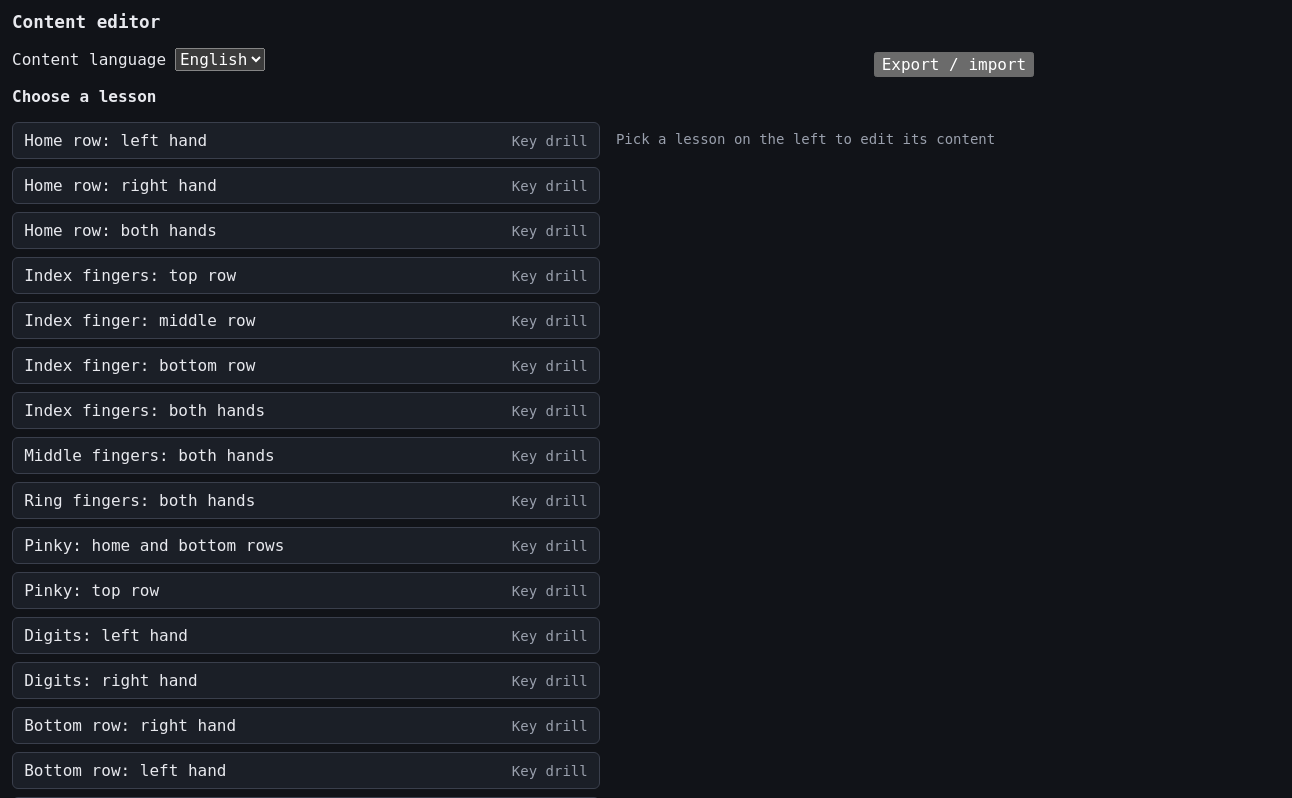
Scenario: ContentScreen › lists lessons for the selected language and opens an editor
The image size is (1292, 798).
Expected: the text with class "content-editor-hint" shows "Pick a lesson on the left", [616,131,995,147]
Expected: the element with class "content-editor-toolbar" is shown, [616,48,1291,89]
Step 1. Click the button with class "content-lesson-button" showing "Home row: left hand Key drill" → [116, 140], box [24,131,588,150]
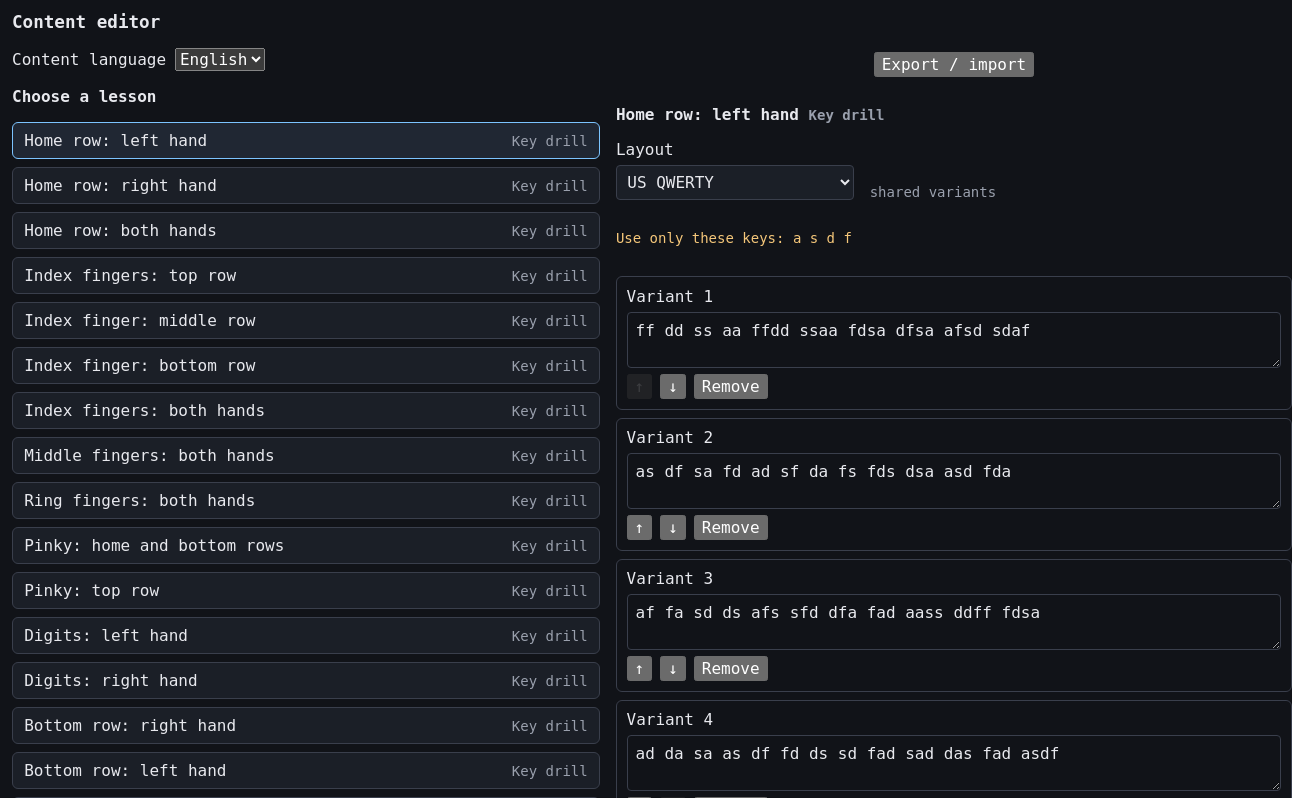
Now the list item with class "selected" is shown, box [12,122,600,159]
